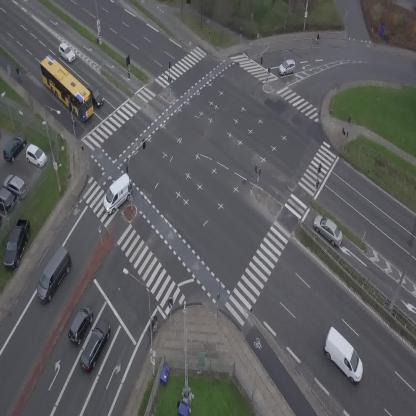bicycle: (146, 313, 159, 331), (13, 65, 23, 80), (313, 32, 322, 43)
bus: (32, 52, 102, 123)
car: (75, 316, 116, 375), (63, 302, 98, 347), (308, 211, 349, 249), (85, 83, 106, 109), (55, 41, 78, 64), (277, 58, 298, 77)
lorry: (313, 325, 374, 386), (28, 245, 79, 306), (95, 173, 140, 217)
